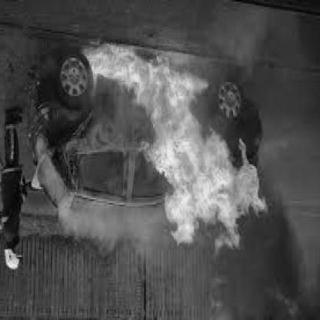Fire: (70, 39, 262, 235)
Smoke: (196, 244, 307, 308)
